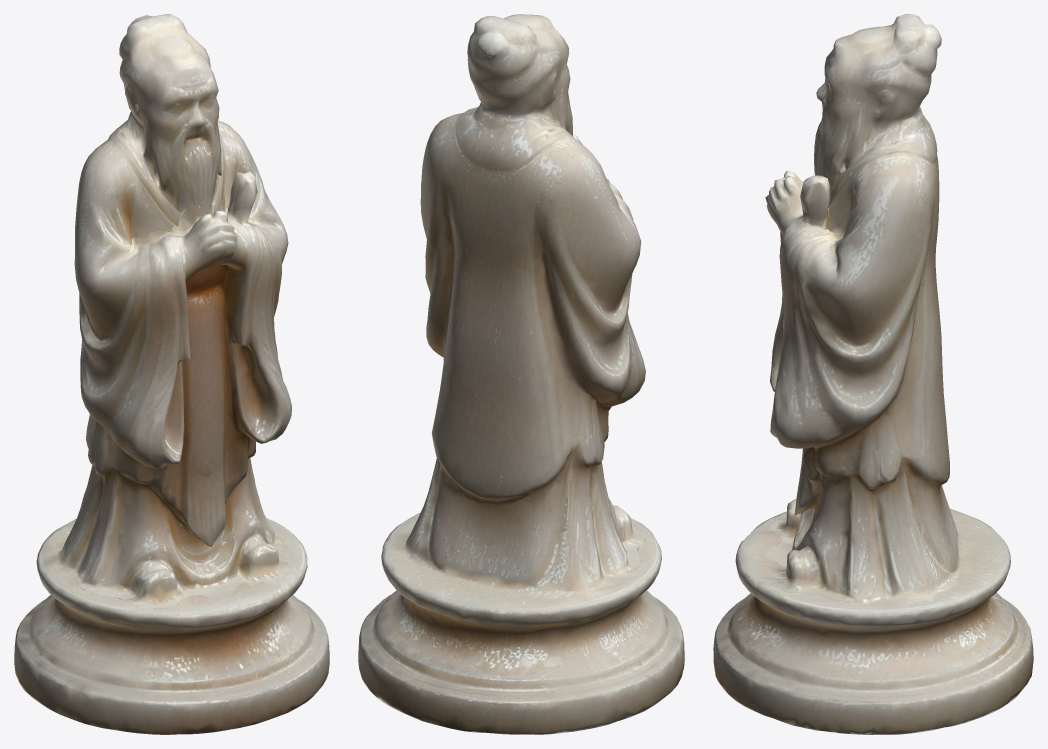
The model's file is draw_statue4_white.glb.
3 renders of one model, left to right at view 1: azimuth 30°, elevation 25°; view 2: azimuth 150°, elevation 25°; view 3: azimuth 270°, elevation 25°, orthographic. The views are drawn at different scales.
Parts seen in each view (by area): view 1: texture_mapping; view 2: texture_mapping; view 3: texture_mapping.
Part boxes in pixels (left/top/right/bottom): texture_mapping: left=14, top=14, right=329, bottom=734; texture_mapping: left=358, top=14, right=684, bottom=734; texture_mapping: left=713, top=14, right=1033, bottom=734.
Size of the model in its own units: 0.4491 by 1 by 0.4497.
Materials: 1 (1 with a texture image).
